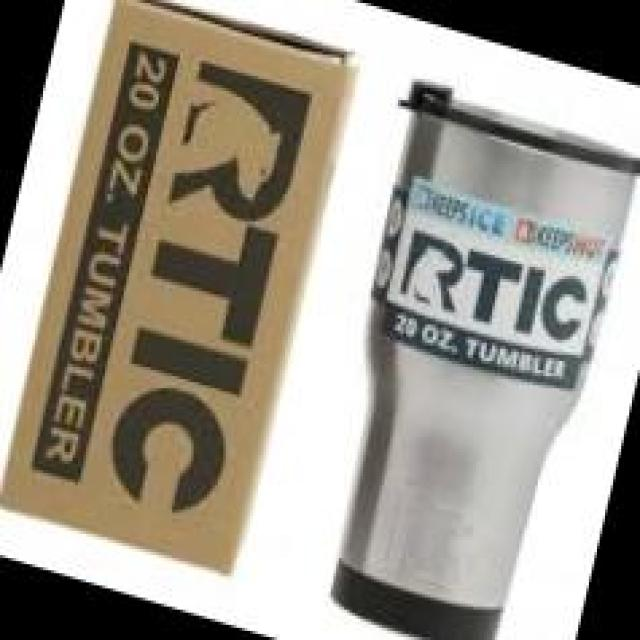bottle: (277, 63, 640, 640)
